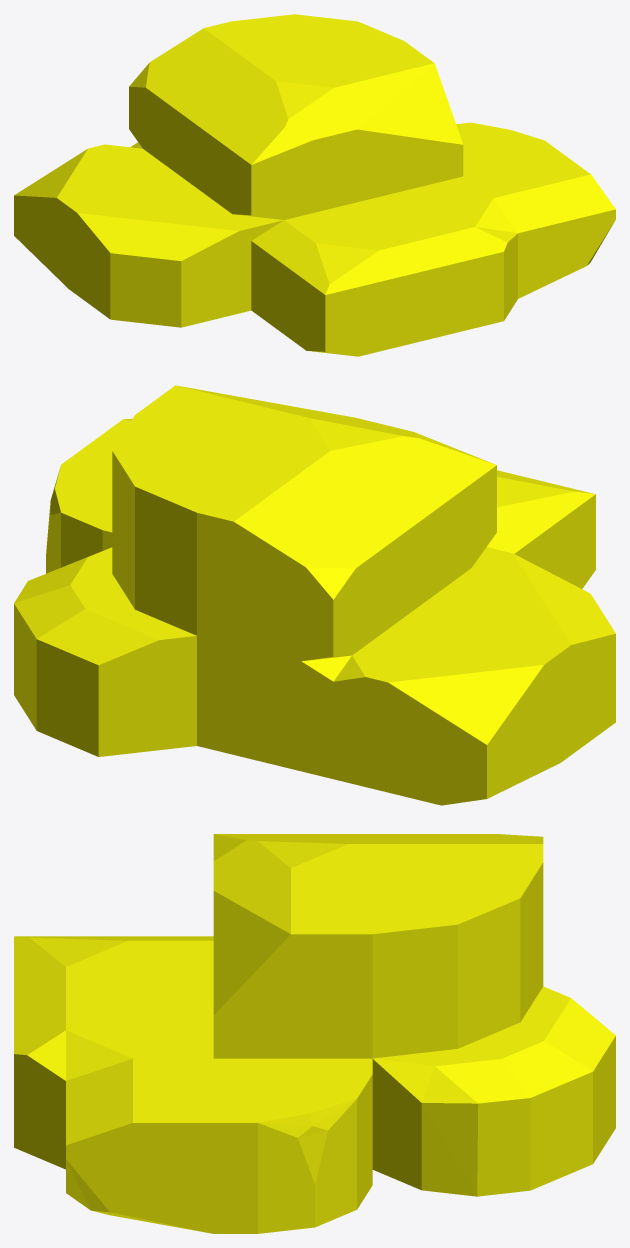
Rendered from rock.glb.
The picture shows the model from 3 angles, top to bottom: view 1: azimuth 30°, elevation 25°; view 2: azimuth 150°, elevation 25°; view 3: azimuth 270°, elevation 25°; orthographic projection. The views are drawn at different scales.
Visible parts, largest first — view 1: rock; view 2: rock; view 3: rock.
Boxes of the visible parts, x1=… form: rock: x1=14, y1=14, x2=615, y2=356; rock: x1=14, y1=385, x2=615, y2=805; rock: x1=14, y1=834, x2=615, y2=1233.
Size of the model in its own units: 4.01 by 1.57 by 3.65.
1 material, 1 textured.
